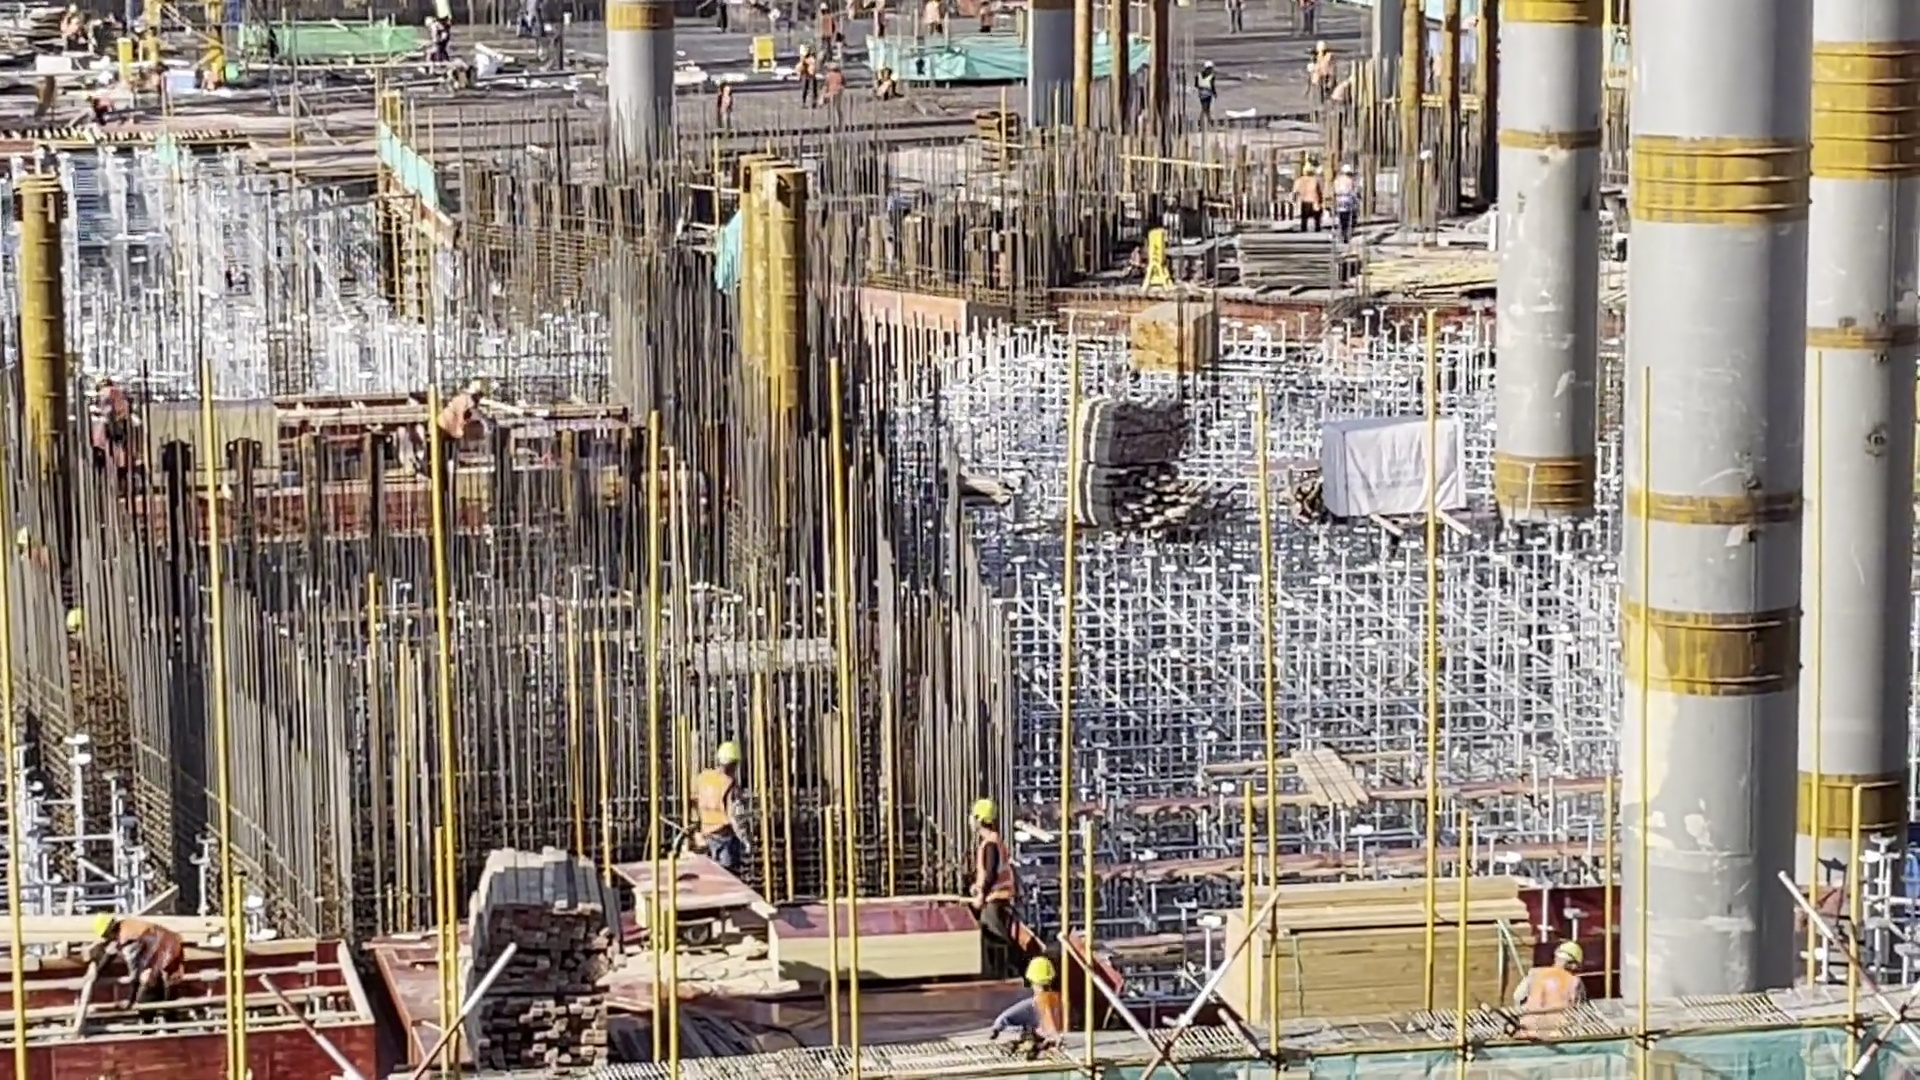board: (801, 900, 983, 978), (1225, 210, 1312, 292)
cutter: (633, 849, 768, 937)
ebox: (1129, 229, 1174, 286), (109, 34, 168, 62), (746, 26, 779, 54)
helmet: (1552, 942, 1585, 974), (975, 799, 1005, 832), (88, 909, 118, 939), (715, 739, 744, 763), (1024, 960, 1055, 984), (89, 370, 122, 389), (467, 379, 491, 405), (1300, 159, 1321, 178), (1200, 59, 1226, 74), (1313, 37, 1330, 58), (1338, 161, 1357, 178), (799, 44, 811, 60), (66, 9, 81, 23), (721, 83, 735, 96), (424, 14, 437, 27), (833, 59, 841, 71), (89, 89, 94, 103), (821, 3, 826, 14)
person: (76, 908, 193, 1023), (1504, 941, 1634, 1016), (961, 786, 1024, 928), (704, 735, 761, 845), (1006, 943, 1074, 1031), (89, 361, 134, 488), (441, 368, 489, 460), (715, 83, 750, 150), (1310, 37, 1345, 103), (1337, 161, 1361, 228), (1196, 60, 1221, 121), (799, 47, 820, 108), (63, 1, 87, 53), (825, 62, 844, 123), (86, 92, 114, 129), (972, 1, 1001, 36), (1301, 151, 1318, 210), (922, 1, 946, 39), (433, 10, 459, 45), (818, 6, 835, 56), (1228, 1, 1248, 37), (877, 1, 891, 38)
vest: (125, 908, 190, 980), (970, 835, 1013, 903), (704, 769, 743, 841), (1524, 971, 1590, 1007), (1020, 999, 1073, 1035), (438, 399, 475, 444), (106, 398, 130, 443), (815, 5, 837, 38), (1337, 180, 1359, 208), (825, 75, 847, 100), (1314, 57, 1333, 81), (977, 9, 996, 31), (1303, 174, 1319, 199), (719, 95, 733, 121), (436, 21, 450, 44), (1200, 71, 1213, 93), (927, 9, 941, 27), (75, 15, 85, 41), (803, 57, 813, 79), (878, 1, 887, 25), (99, 97, 107, 119)
wood: (1243, 862, 1563, 1017), (471, 851, 601, 1042)
